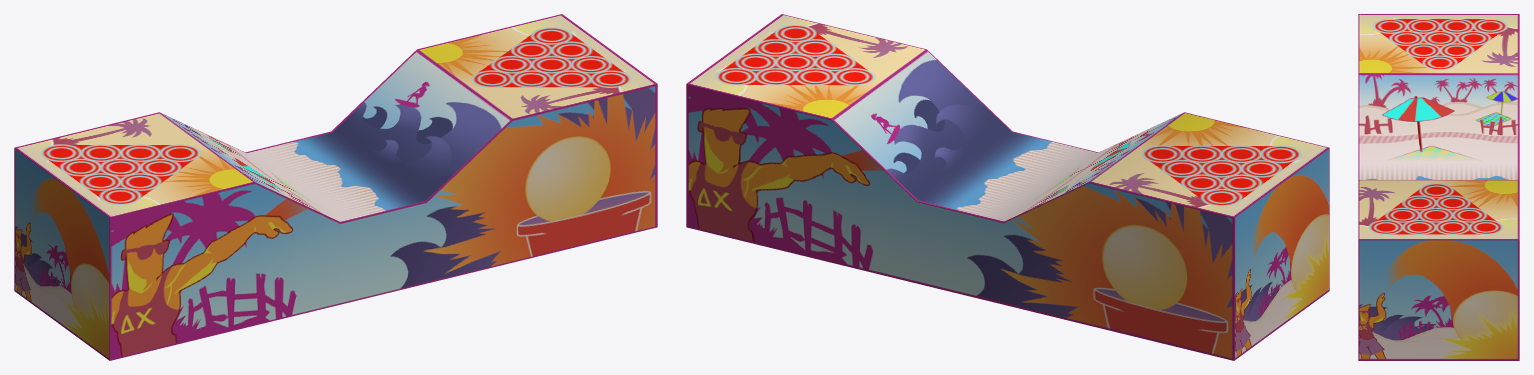
File: BeARPong_Table_V.02.fbx
3 views of the same model, side by side, from view 1: azimuth 30°, elevation 25°; view 2: azimuth 150°, elevation 25°; view 3: azimuth 270°, elevation 25° (orthographic). The views are drawn at different scales.
Visible parts, largest first — view 1: pCube1; view 2: pCube1; view 3: pCube1.
Part boxes in pixels (box(x1,y1,x2,y2)): pCube1: box(14, 14, 657, 360); pCube1: box(686, 14, 1329, 360); pCube1: box(1358, 14, 1519, 360).
Bounding box in the file's own units: 48.77 × 12.19 × 14.73.
